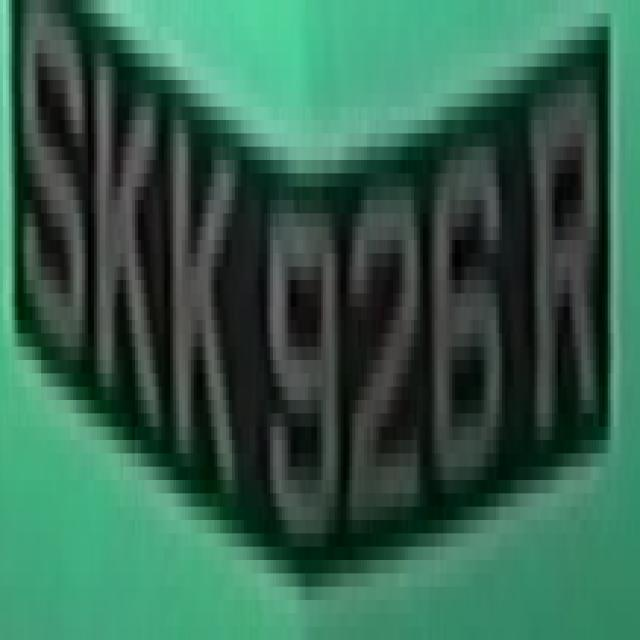2: (346, 187, 420, 600)
6: (423, 147, 496, 520)
9: (258, 147, 344, 560)
K: (91, 0, 159, 480), (161, 66, 229, 506)
R: (522, 27, 602, 520)
S: (15, 13, 88, 400)
